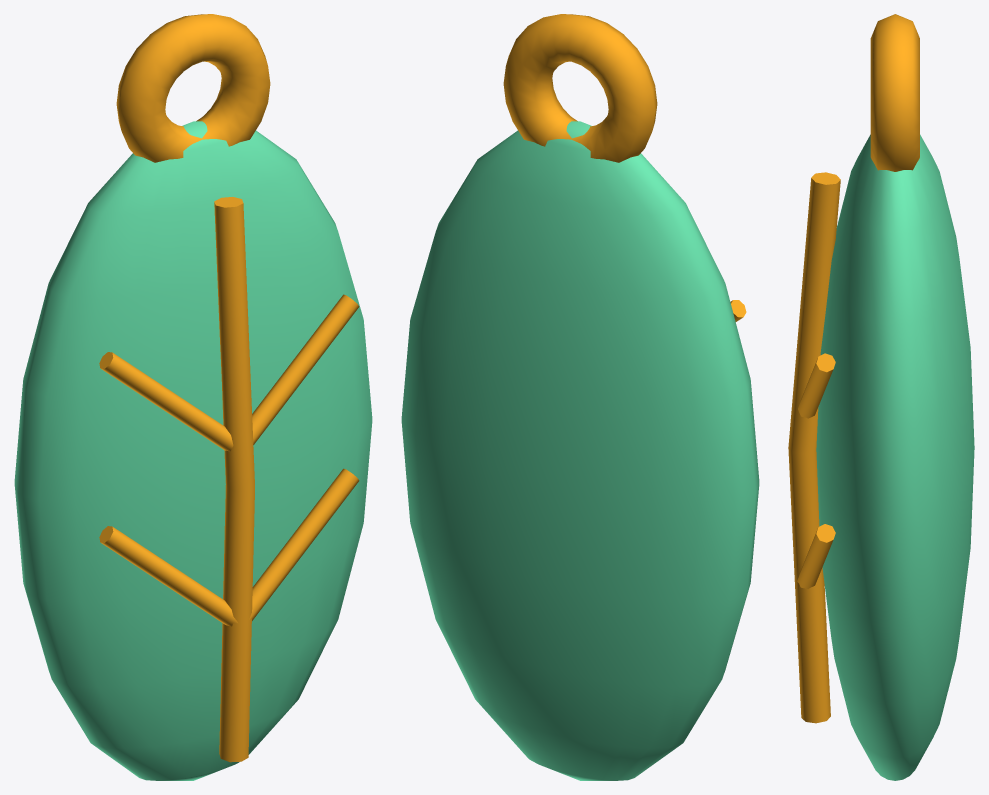
File: jadeleaf.fbx
3 renders of one model, left to right at view 1: azimuth 30°, elevation 25°; view 2: azimuth 150°, elevation 25°; view 3: azimuth 270°, elevation 25°, orthographic. The views are drawn at different scales.
Visible parts, largest first — view 1: jadeleaf; view 2: jadeleaf; view 3: jadeleaf.
Boxes of the visible parts, x1,y1,x2,y2 form: jadeleaf: [14, 14, 372, 780]; jadeleaf: [401, 14, 759, 780]; jadeleaf: [788, 14, 974, 780].
Bounding box in the file's own units: 47.9 × 100 × 22.51.
Materials: 1 (1 with a texture image).
